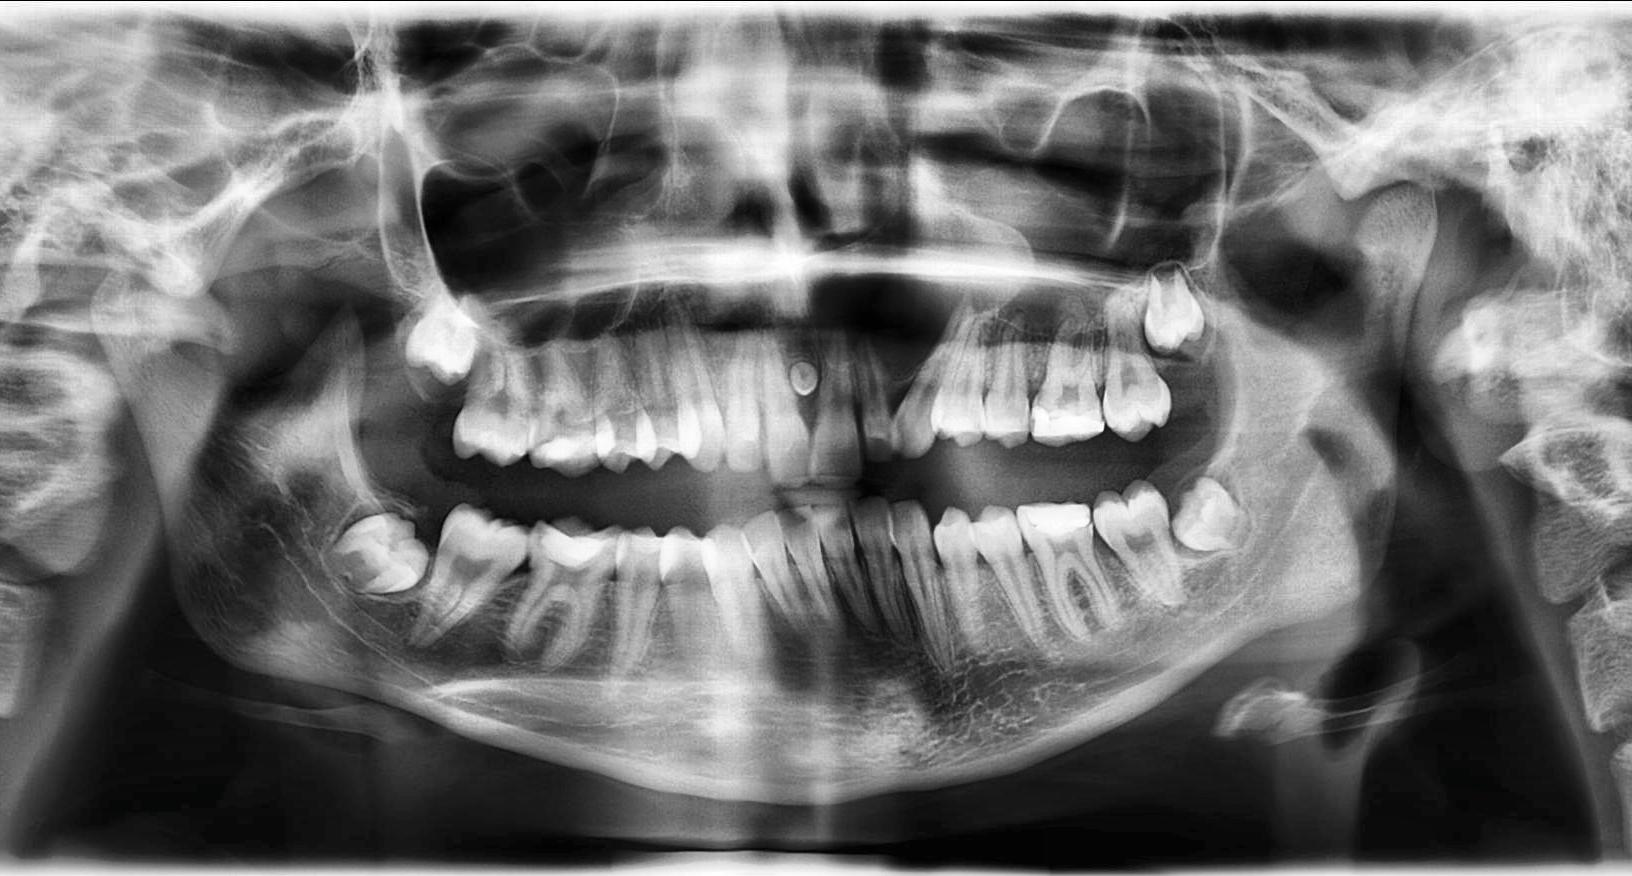radikuler: (792, 200, 1037, 382)
